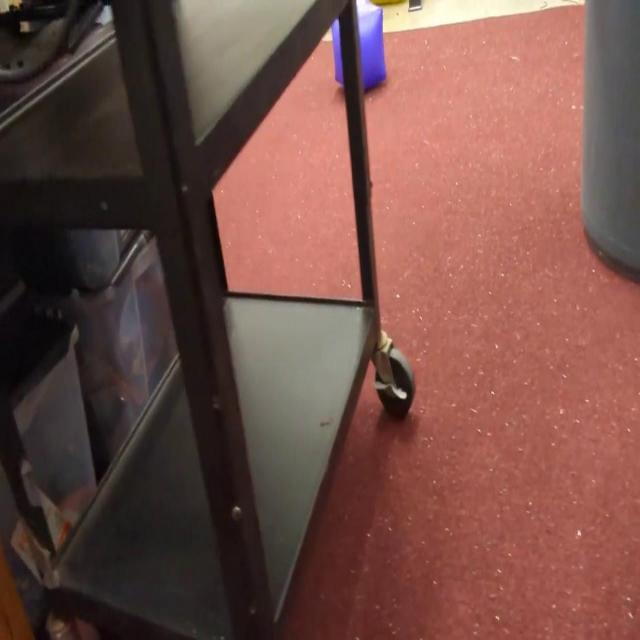frc_cube: (334, 0, 386, 99)
